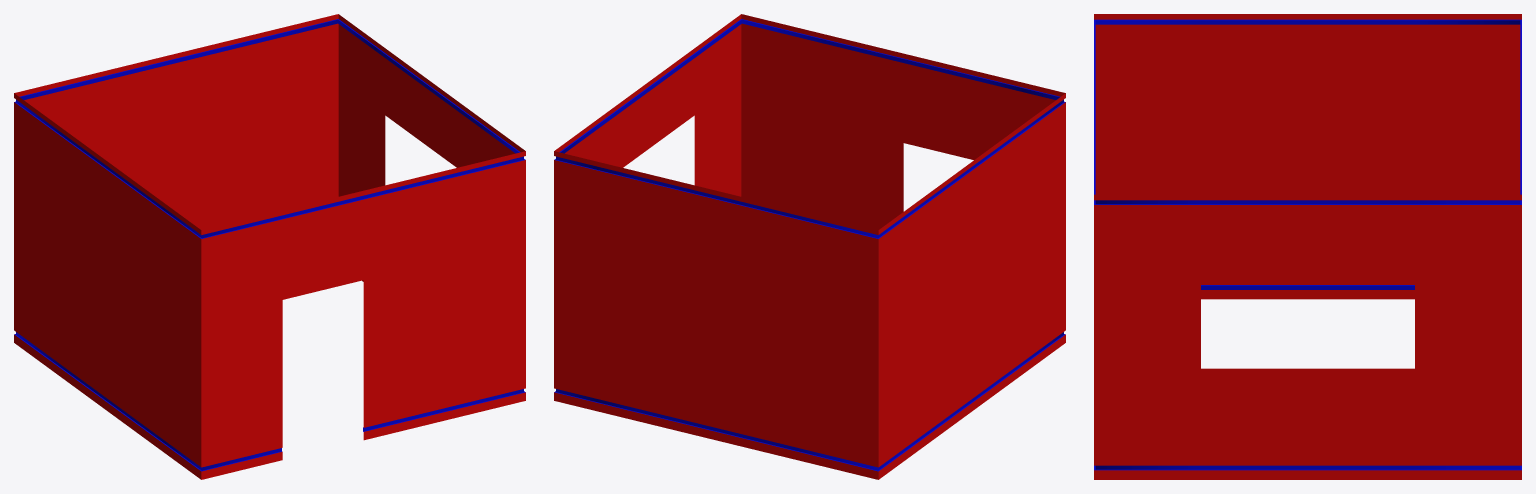
The model's file is StudyWalls.fbx.
3 renders of one model, left to right at view 1: azimuth 30°, elevation 25°; view 2: azimuth 150°, elevation 25°; view 3: azimuth 270°, elevation 25°, orthographic. The views are drawn at different scales.
Visible parts, largest first — view 1: Wall13; view 2: Wall13; view 3: Wall13.
Boxes of the visible parts, box(x1,y1,x2,y2) form: Wall13: box(14, 14, 525, 479); Wall13: box(554, 14, 1065, 479); Wall13: box(1094, 14, 1521, 479).
Bounding box in the file's own units: 400 × 294 × 400.
